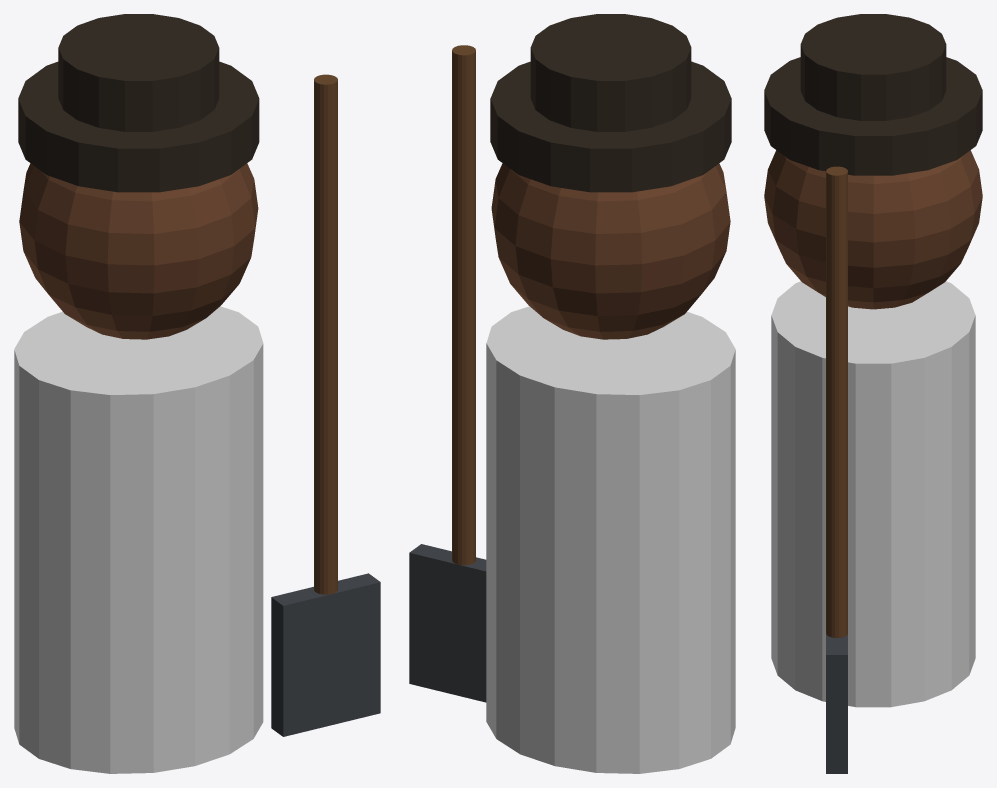
The model's file is gravedigger.b776df81.glb.
3 views of the same model, side by side, from view 1: azimuth 30°, elevation 25°; view 2: azimuth 150°, elevation 25°; view 3: azimuth 270°, elevation 25° (orthographic). The views are drawn at different scales.
Parts seen in each view (by area): view 1: accent, body; view 2: accent, body; view 3: accent, body.
Part boxes in pixels (box(x1,y1,x2,y2)): accent: box(14, 306, 263, 773); body: box(18, 14, 380, 736); accent: box(486, 306, 735, 773); body: box(409, 14, 731, 702); accent: box(771, 281, 975, 707); body: box(764, 14, 982, 773).
Bounding box in the file's own units: 0.4676 × 0.96 × 0.3.
